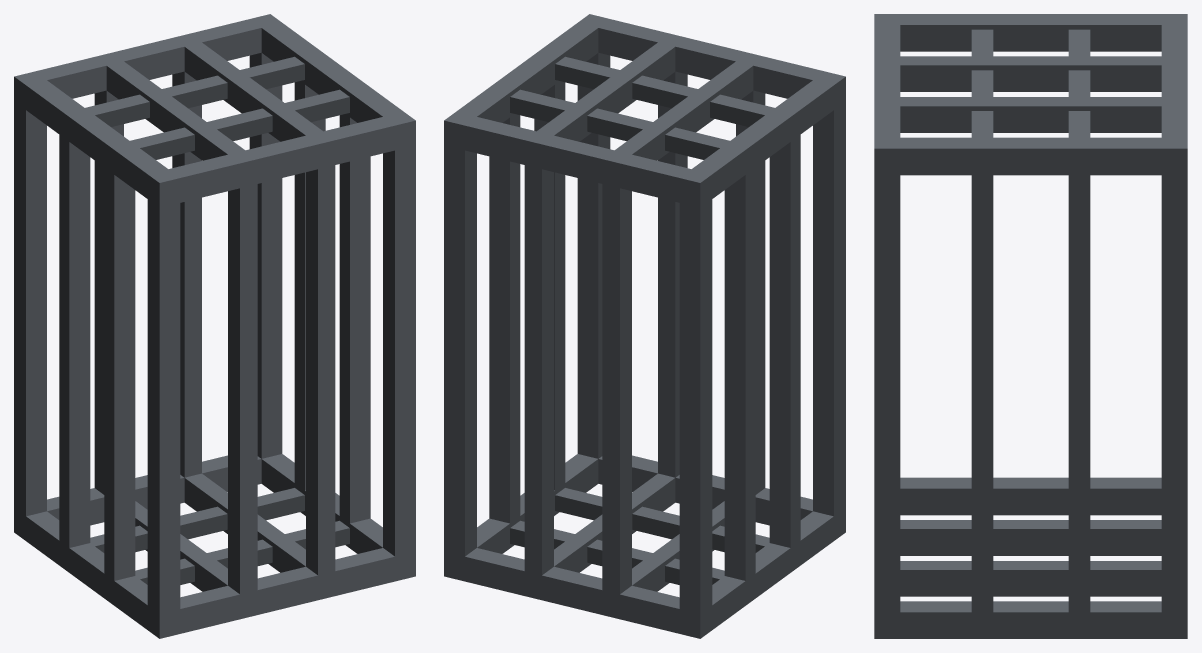
The model's file is SD_Prop_Cage_01.fbx.
3 views of the same model, side by side, from view 1: azimuth 30°, elevation 25°; view 2: azimuth 150°, elevation 25°; view 3: azimuth 270°, elevation 25° (orthographic). The views are drawn at different scales.
Visible parts, largest first — view 1: SD_Prop_Cage_01; view 2: SD_Prop_Cage_01; view 3: SD_Prop_Cage_01.
Part boxes in pixels (x1,y1,x2,y2): SD_Prop_Cage_01: (14,14,415,638); SD_Prop_Cage_01: (444,14,845,638); SD_Prop_Cage_01: (874,14,1187,638).
Bounding box in the file's own units: 2.13 × 3.62 × 2.1.
